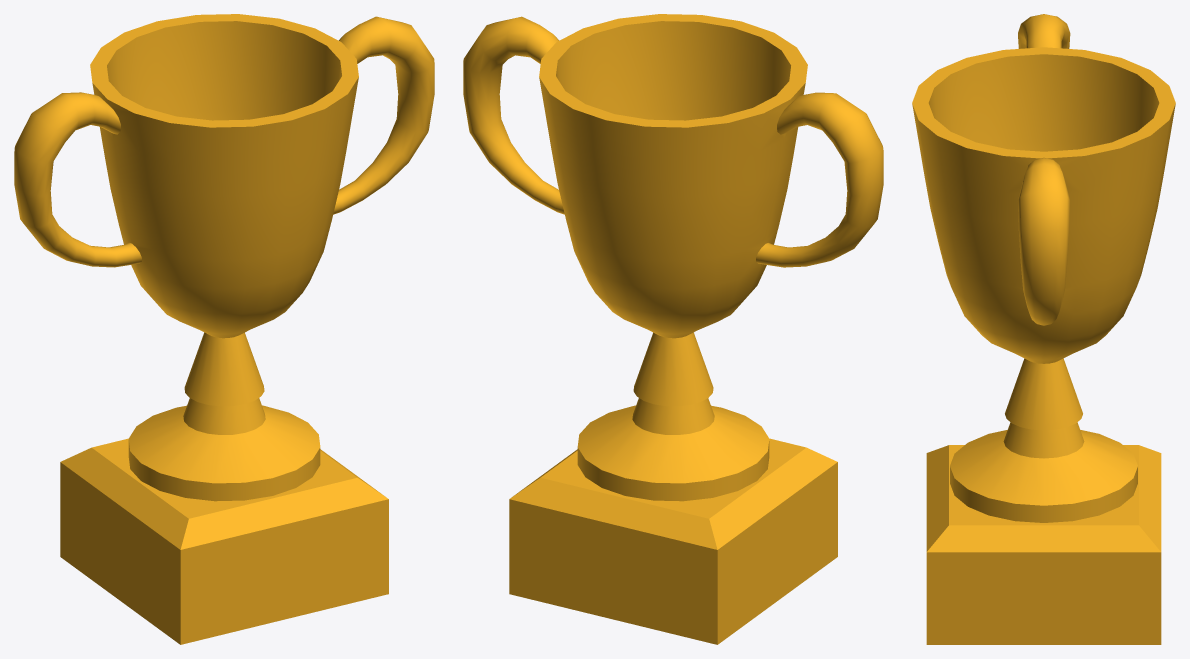
The model's file is Award_1.fbx.
3 views of the same model, side by side, from view 1: azimuth 30°, elevation 25°; view 2: azimuth 150°, elevation 25°; view 3: azimuth 270°, elevation 25° (orthographic). The views are drawn at different scales.
Visible parts, largest first — view 1: Award_1; view 2: Award_1; view 3: Award_1.
Boxes of the visible parts, bbox=[...] form: Award_1: bbox=[14, 14, 434, 644]; Award_1: bbox=[463, 14, 883, 644]; Award_1: bbox=[912, 14, 1175, 644].
Size of the model in its own units: 0.2829 by 0.3404 by 0.1607.
